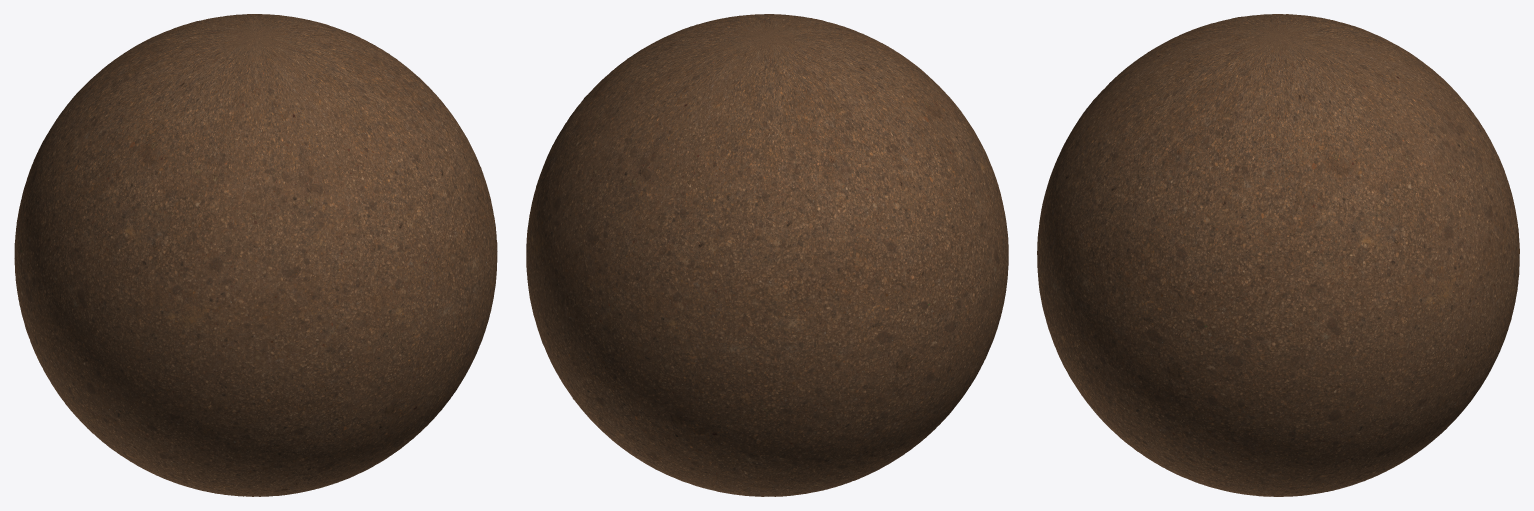
File: asphalt_05_4k.gltf
3 views of the same model, side by side, from view 1: azimuth 30°, elevation 25°; view 2: azimuth 150°, elevation 25°; view 3: azimuth 270°, elevation 25° (orthographic).
Visible parts, largest first — view 1: sphere_gltf; view 2: sphere_gltf; view 3: sphere_gltf.
Boxes of the visible parts, x1,y1,x2,y2 form: sphere_gltf: (14,14,497,496); sphere_gltf: (526,14,1008,496); sphere_gltf: (1037,14,1519,496).
Bounding box in the file's own units: 2 × 2 × 2.
Materials: 1 (1 with a texture image).
